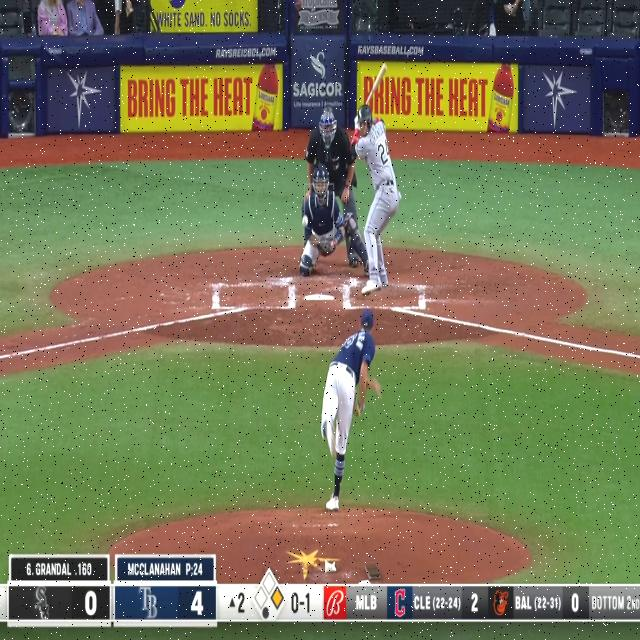baseball: (302, 215, 308, 228)
